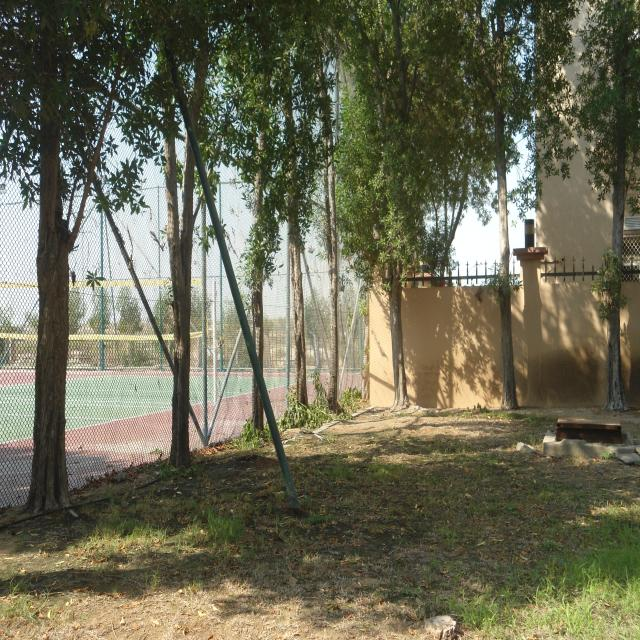pothole: (541, 414, 632, 445)
tree-chair-bench-table-wall: (0, 0, 141, 530), (131, 0, 232, 483), (335, 0, 511, 275), (236, 0, 322, 432), (595, 0, 640, 415), (514, 0, 574, 199)
